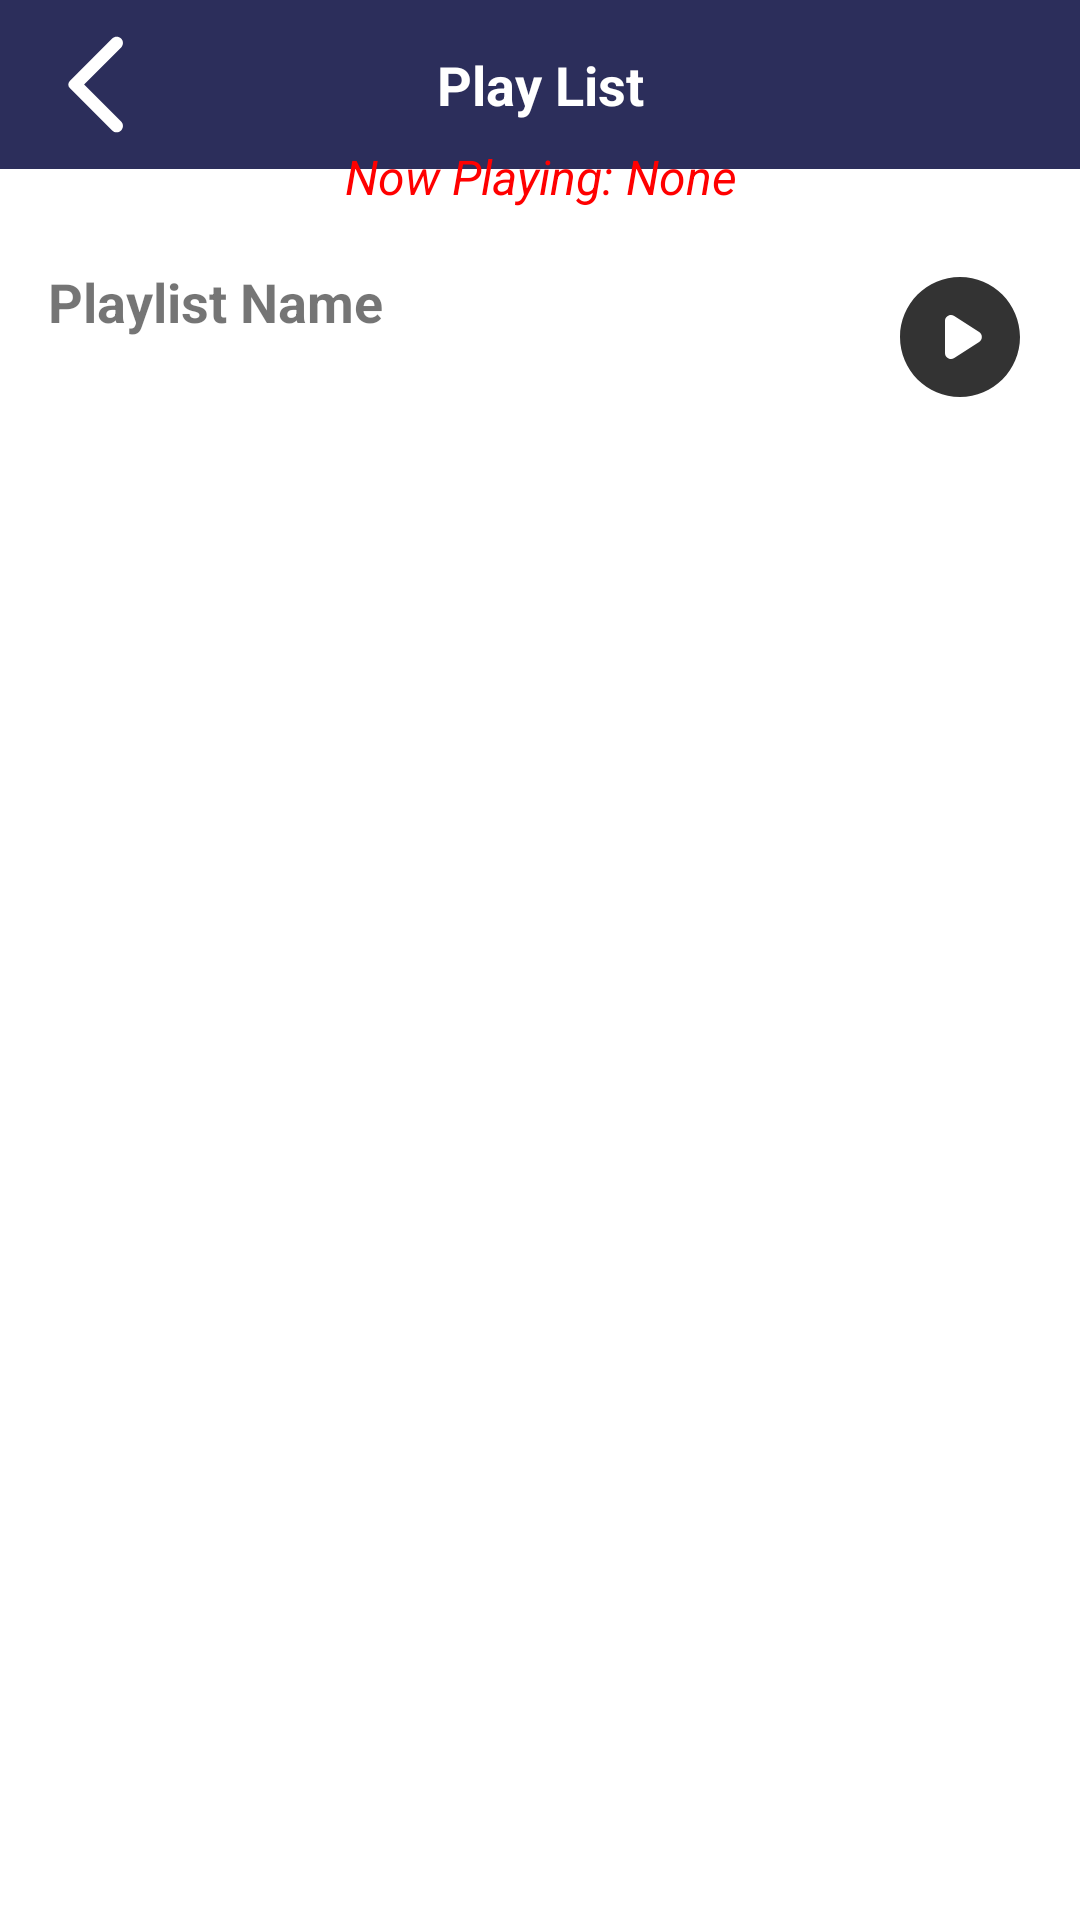

Icons on this 1080×1920 Android screen, each with its box as (x1, y1, x2, y2):
Back: (68, 36, 123, 133)
Play All: (900, 277, 1020, 397)
